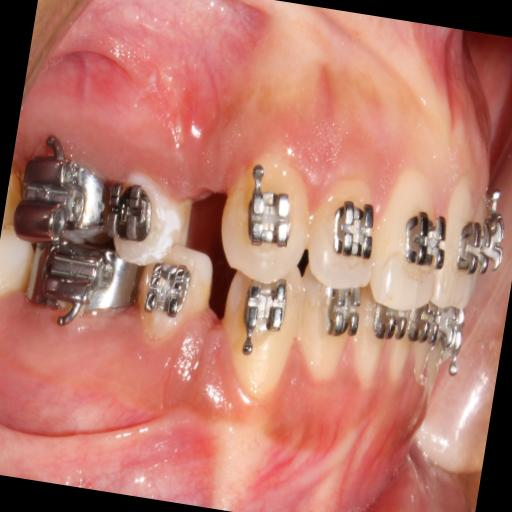correct_brace: (104, 166, 196, 272), (240, 164, 298, 254), (398, 203, 448, 282), (329, 196, 378, 266)
incorrect_brace: (302, 176, 384, 291), (111, 178, 164, 248)
